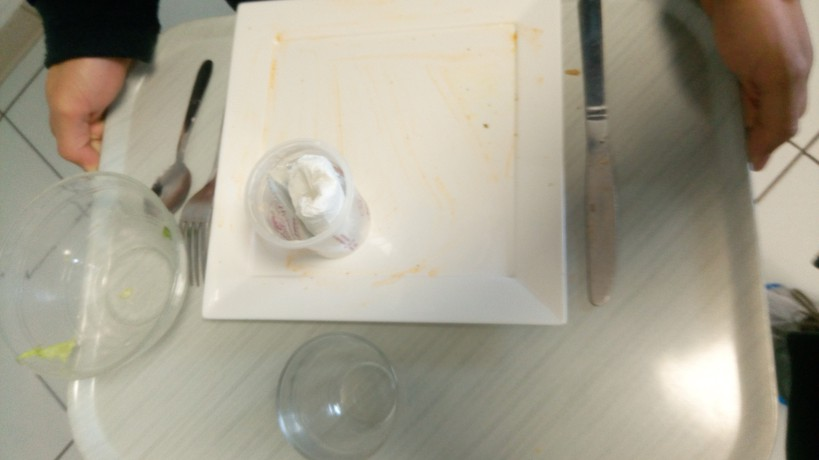cup: (272, 326, 413, 460)
cutlery: (565, 1, 641, 305), (152, 48, 219, 239)
trash: (260, 148, 379, 264)
